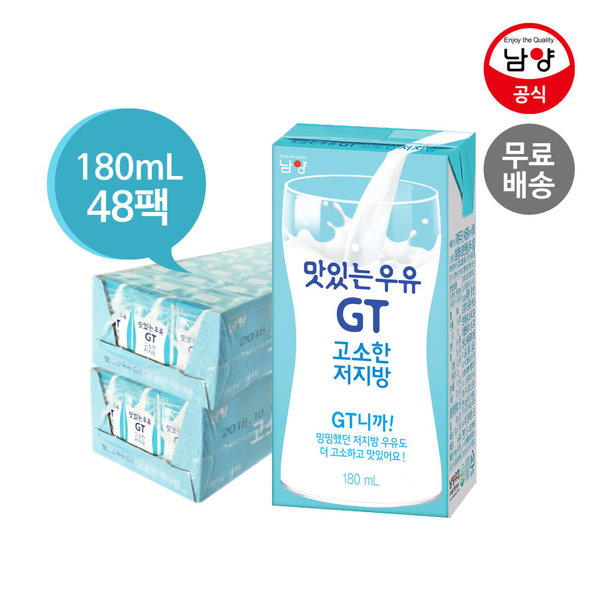milk: (271, 122, 478, 522), (95, 238, 274, 503)
